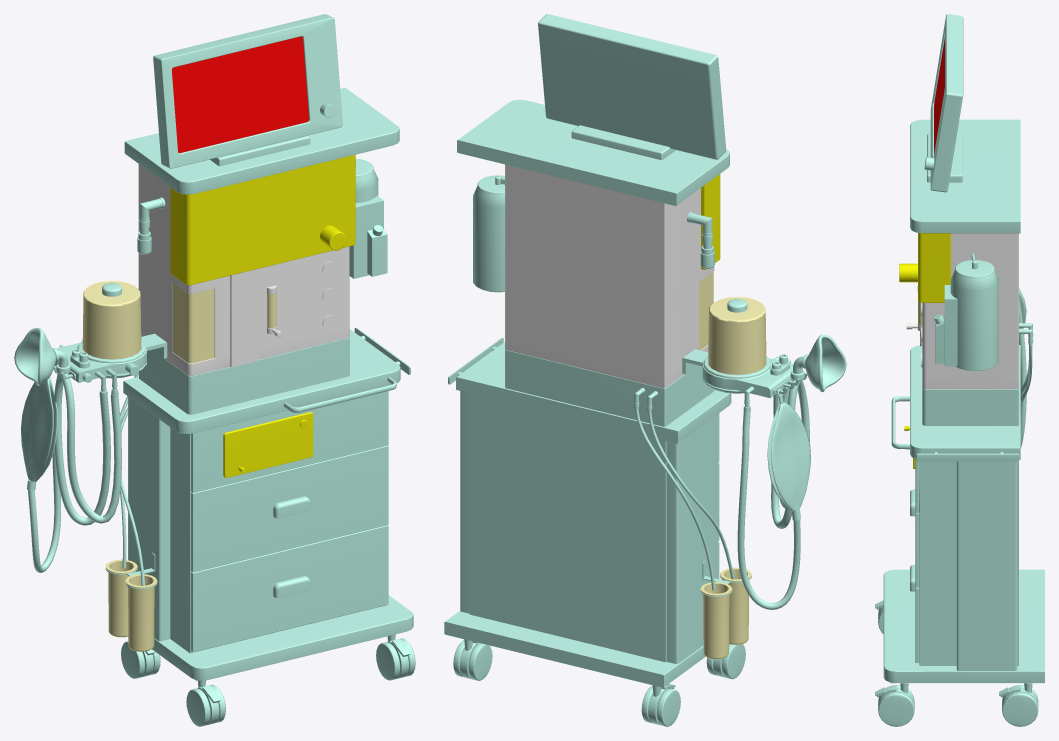
The model's file is anesthesia_breathing.fbx.
3 renders of one model, left to right at view 1: azimuth 30°, elevation 25°; view 2: azimuth 150°, elevation 25°; view 3: azimuth 270°, elevation 25°, orthographic. The views are drawn at different scales.
Parts seen in each view (by area): view 1: anesthesia_breathing, anesthesia_screen, anesthesia_box_1, anesthesia_box_2, anesthesia_flask_2, anesthesia_flask_1, anesthesia_wheel_1, anesthesia_wheel_2, anesthesia_wheel_4; view 2: anesthesia_breathing, anesthesia_screen, anesthesia_flask_1, anesthesia_flask_2, anesthesia_wheel_4, anesthesia_wheel_3, anesthesia_wheel_1; view 3: anesthesia_breathing, anesthesia_screen, anesthesia_wheel_2, anesthesia_wheel_3, anesthesia_box_2, anesthesia_box_1.
Part boxes in pixels (x1,y1,x2,y2): anesthesia_breathing: (14, 87, 413, 680); anesthesia_screen: (153, 14, 342, 168); anesthesia_box_1: (191, 525, 388, 652); anesthesia_box_2: (191, 445, 388, 572); anesthesia_flask_2: (125, 574, 156, 651); anesthesia_flask_1: (106, 559, 137, 637); anesthesia_wheel_1: (186, 680, 225, 726); anesthesia_wheel_2: (376, 634, 415, 680); anesthesia_wheel_4: (121, 641, 160, 678); anesthesia_breathing: (444, 99, 846, 687); anesthesia_screen: (538, 14, 726, 159); anesthesia_flask_1: (701, 582, 731, 659); anesthesia_flask_2: (720, 567, 751, 644); anesthesia_wheel_4: (641, 684, 680, 726); anesthesia_wheel_3: (453, 639, 492, 680); anesthesia_wheel_1: (706, 644, 745, 679); anesthesia_breathing: (883, 119, 1044, 683); anesthesia_screen: (924, 14, 963, 192); anesthesia_wheel_2: (875, 683, 914, 726); anesthesia_wheel_3: (999, 683, 1038, 726); anesthesia_box_2: (910, 489, 919, 587); anesthesia_box_1: (910, 565, 919, 663).
Bounding box in the file's own units: 102 × 176 × 44.23.
